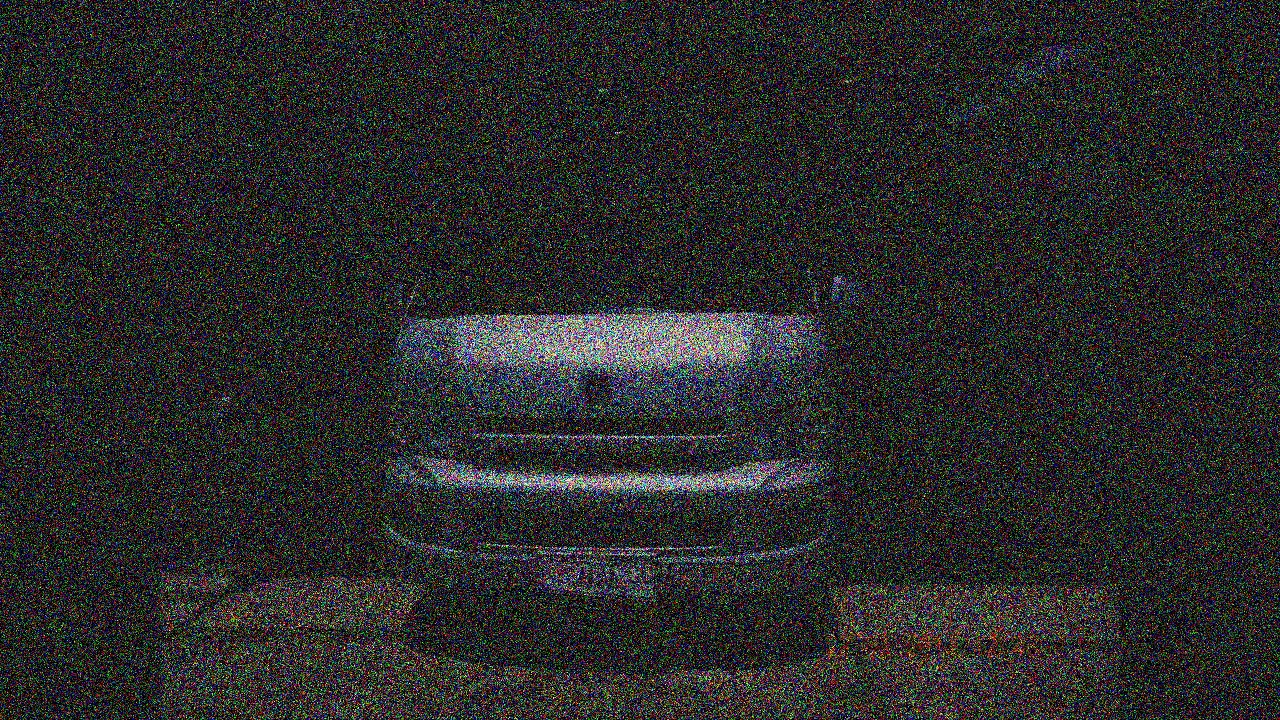van: (371, 144, 880, 632)
